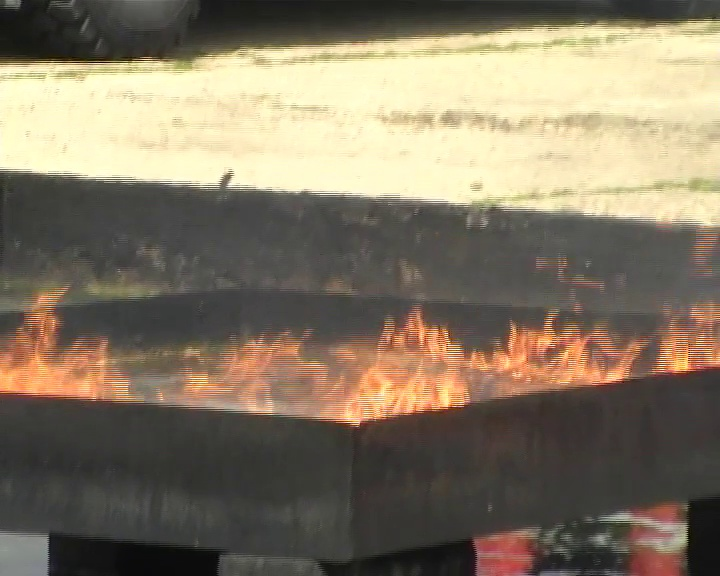fire: (178, 309, 720, 415), (3, 289, 124, 397)
